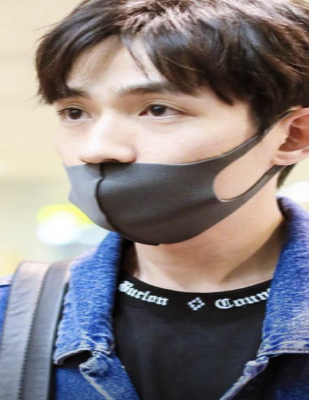mask_weared_incorrect: (49, 80, 248, 247)
